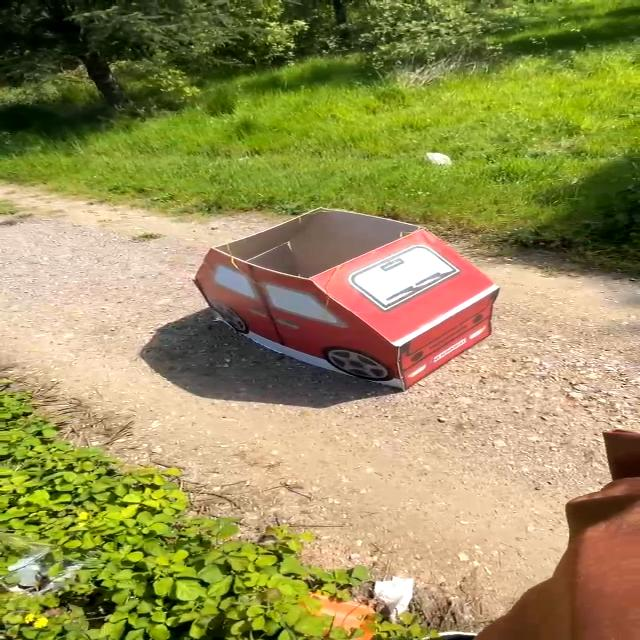red_car: (173, 196, 542, 399)
